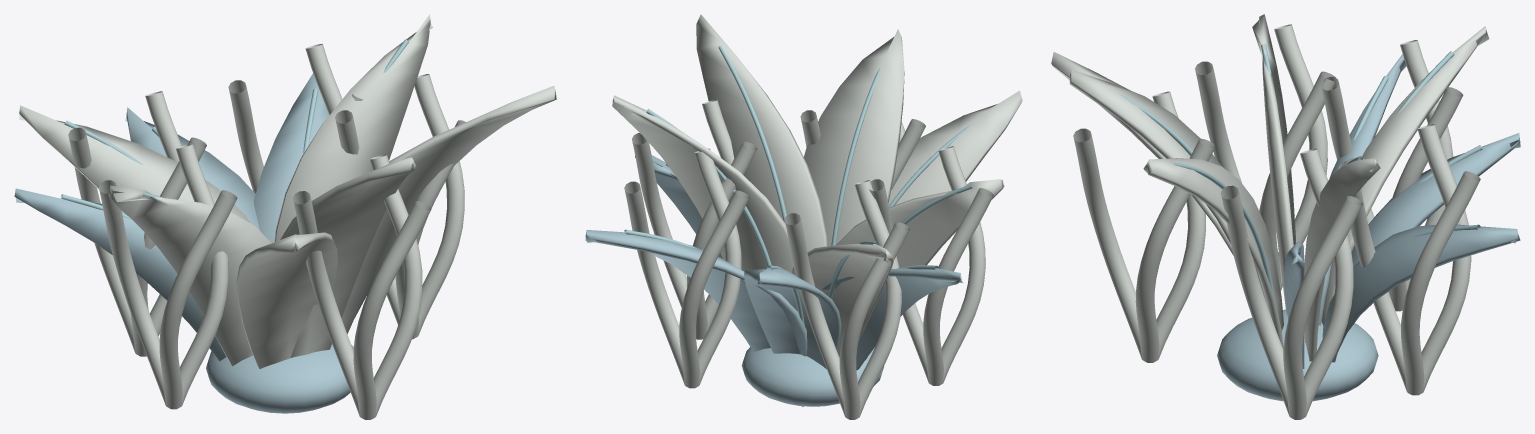
File: bio_mist_leaf_14_near.glb
3 renders of one model, left to right at view 1: azimuth 30°, elevation 25°; view 2: azimuth 150°, elevation 25°; view 3: azimuth 270°, elevation 25°, orthographic. The views are drawn at different scales.
Visible parts, largest first — view 1: Spiral filament.012, Spiral filament.006, Cupped condensate leaf.008, Cupped condensate leaf.007, Cupped condensate leaf.004, Cupped condensate leaf.002, Root rosette, Cupped condensate leaf.005, Spiral filament, Cupped condensate leaf.001, Spiral filament.003, Cupped condensate leaf.009 (+3 smaller); view 2: Cupped condensate leaf.002, Cupped condensate leaf.005, Spiral filament.009, Spiral filament.003, Spiral filament.012, Cupped condensate leaf.008, Cupped condensate leaf.007, Spiral filament, Cupped condensate leaf.003, Cupped condensate leaf.004, Cupped condensate leaf.006, Root rosette (+8 smaller); view 3: Spiral filament, Spiral filament.006, Spiral filament.009, Spiral filament.012, Root rosette, Cupped condensate leaf.003, Cupped condensate leaf.001, Cupped condensate leaf.005, Spiral filament.003, Cupped condensate leaf.004, Cupped condensate leaf.002, Cupped condensate leaf.006 (+5 smaller).
Part boxes in pixels (<box>): Spiral filament.012: <box>98,144,237,409</box>; Spiral filament.006: <box>292,154,431,419</box>; Cupped condensate leaf.008: <box>274,14,432,241</box>; Cupped condensate leaf.007: <box>236,232,337,368</box>; Cupped condensate leaf.004: <box>108,185,271,366</box>; Cupped condensate leaf.002: <box>280,157,415,357</box>; Root rosette: <box>206,344,353,413</box>; Cupped condensate leaf.005: <box>341,85,556,333</box>; Spiral filament: <box>335,74,465,339</box>; Cupped condensate leaf.001: <box>19,105,250,222</box>; Spiral filament.003: <box>68,91,206,356</box>; Cupped condensate leaf.009: <box>14,188,226,361</box>; Cupped condensate leaf.002: <box>804,29,904,246</box>; Cupped condensate leaf.005: <box>696,14,827,252</box>; Spiral filament.009: <box>624,148,749,388</box>; Spiral filament.003: <box>784,180,909,419</box>; Spiral filament.012: <box>869,146,993,385</box>; Cupped condensate leaf.008: <box>612,95,793,272</box>; Cupped condensate leaf.007: <box>888,90,1022,205</box>; Spiral filament: <box>632,99,757,339</box>; Cupped condensate leaf.003: <box>585,230,807,356</box>; Cupped condensate leaf.004: <box>836,179,1004,360</box>; Cupped condensate leaf.006: <box>744,268,841,406</box>; Root rosette: <box>741,347,884,406</box>; Spiral filament: <box>1221,148,1362,419</box>; Spiral filament.006: <box>1073,91,1215,362</box>; Spiral filament.009: <box>1338,124,1480,395</box>; Spiral filament.012: <box>1195,24,1336,290</box>; Root rosette: <box>1217,309,1378,401</box>; Cupped condensate leaf.003: <box>1322,224,1520,362</box>; Cupped condensate leaf.001: <box>1321,26,1489,325</box>; Cupped condensate leaf.005: <box>1143,158,1283,349</box>; Spiral filament.003: <box>1321,40,1463,311</box>; Cupped condensate leaf.004: <box>1252,14,1295,314</box>; Cupped condensate leaf.002: <box>1069,69,1265,299</box>; Cupped condensate leaf.006: <box>1351,133,1520,267</box>.
Bounding box in the file's own units: 1.83 × 1.34 × 1.74.
